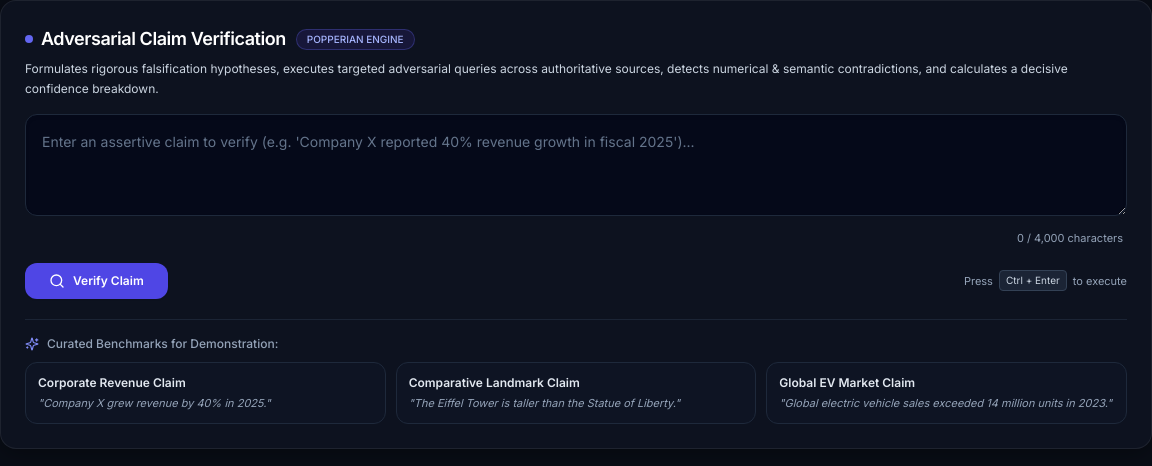
ClaimInput Component › populates input when clicking a sample preset
What coordinates should you click on to do the following:
click the button "Corporate Revenue Claim"
I would click on:
 (205, 393)
Its box is x1=25 y1=362 x2=386 y2=424.
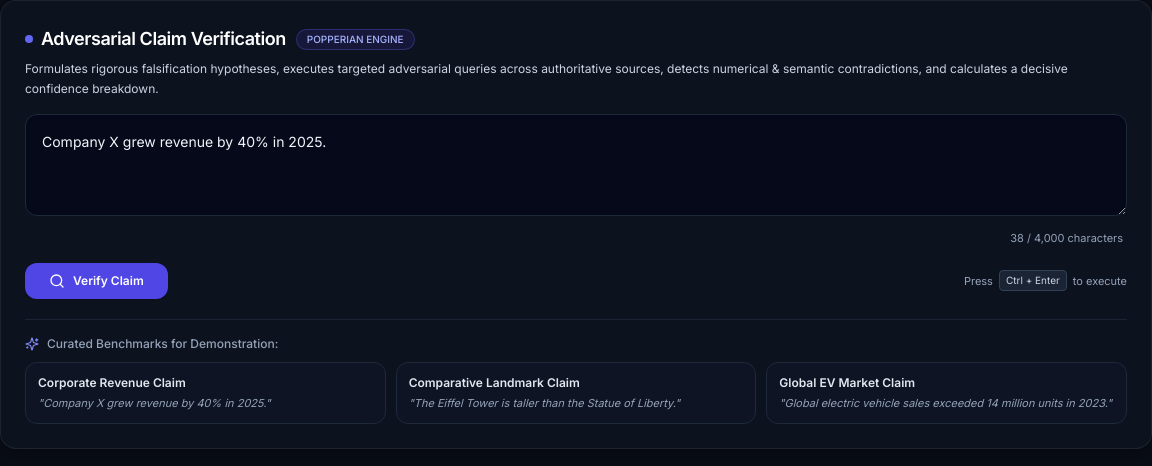
Expected: the text box named "Claim statement to verify" holds "Company X grew revenue by 40% in 2025.", x1=25 y1=114 x2=1127 y2=216
